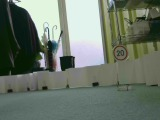speed_20: (112, 44, 128, 61)
